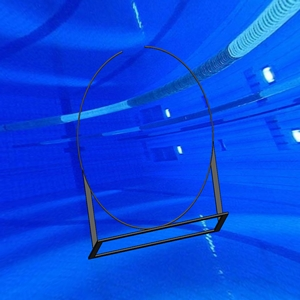circle: (75, 45, 229, 260)
